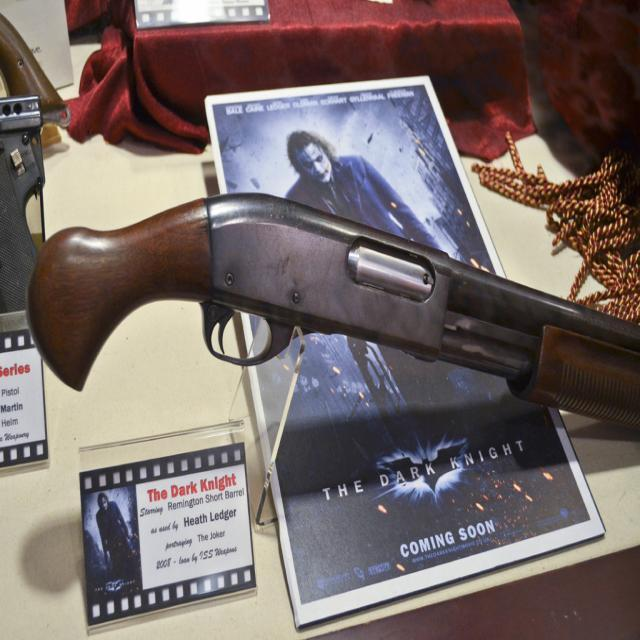weapon: (25, 192, 640, 430), (0, 94, 46, 314)
